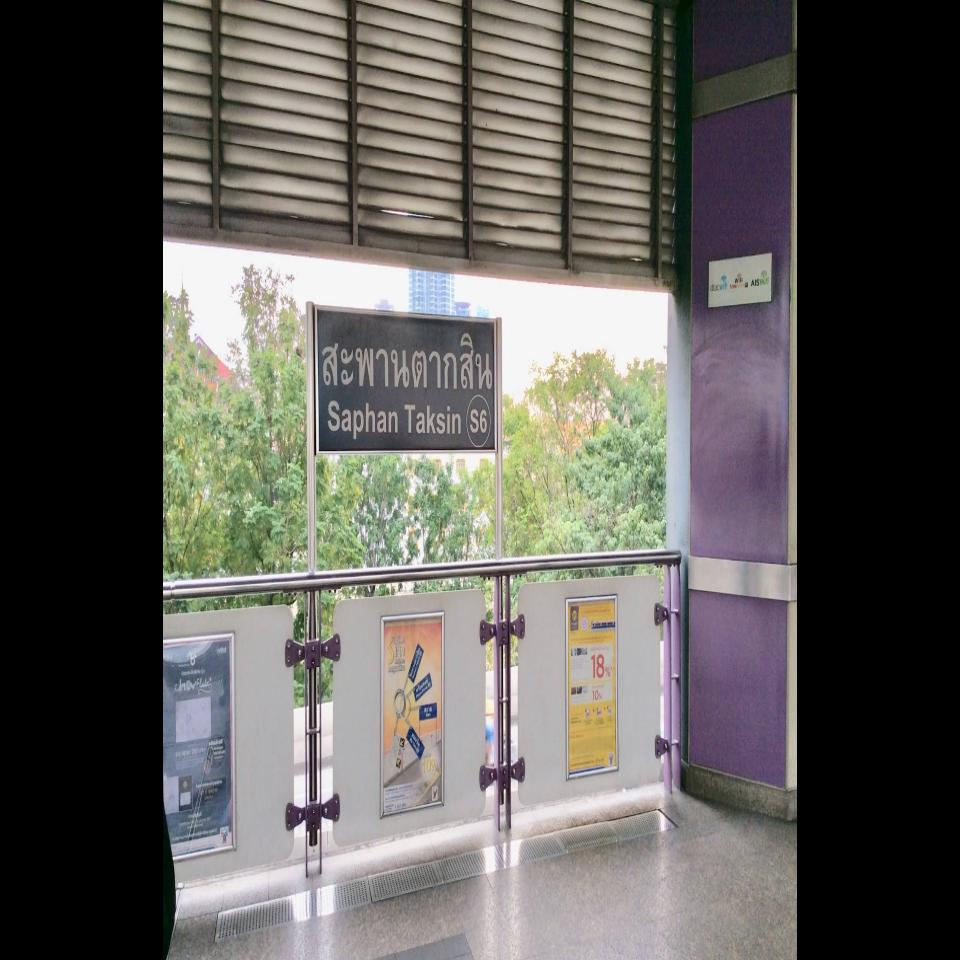signage: (313, 306, 498, 456)
